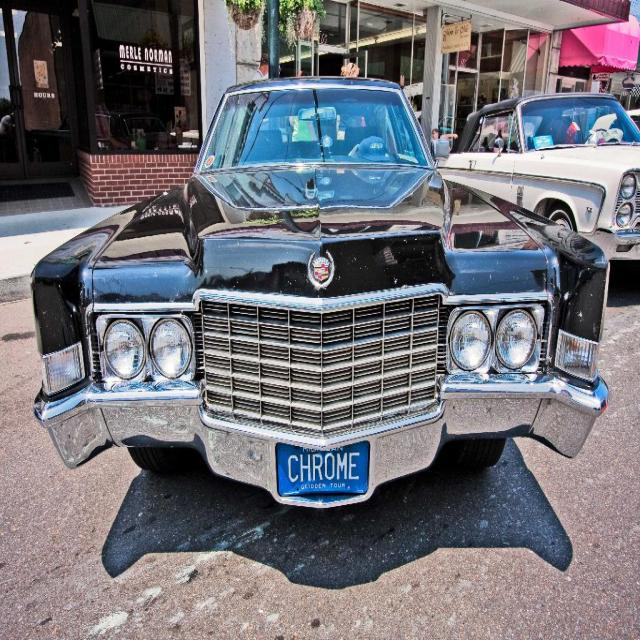car: (29, 76, 609, 511)
